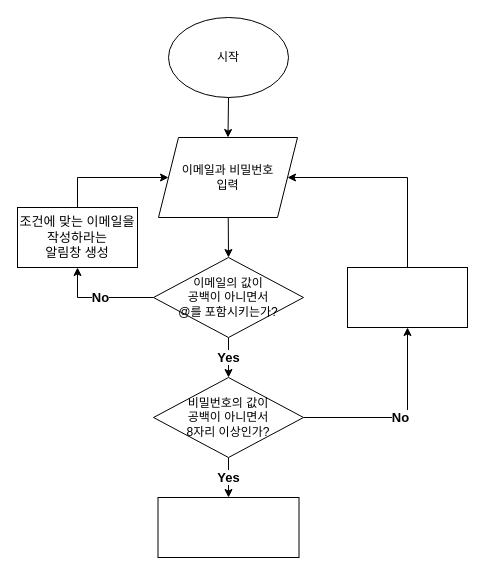
Image size: 485x575. Some labels were removed from this diagram. Here are the shapes that lost their labels. From the top down, the centre of each, then its label:
(407,297): 조건에 맞는 비밀번호를 작성하라는 알림창 생성
(228,527): 로그인 버튼 활성화
